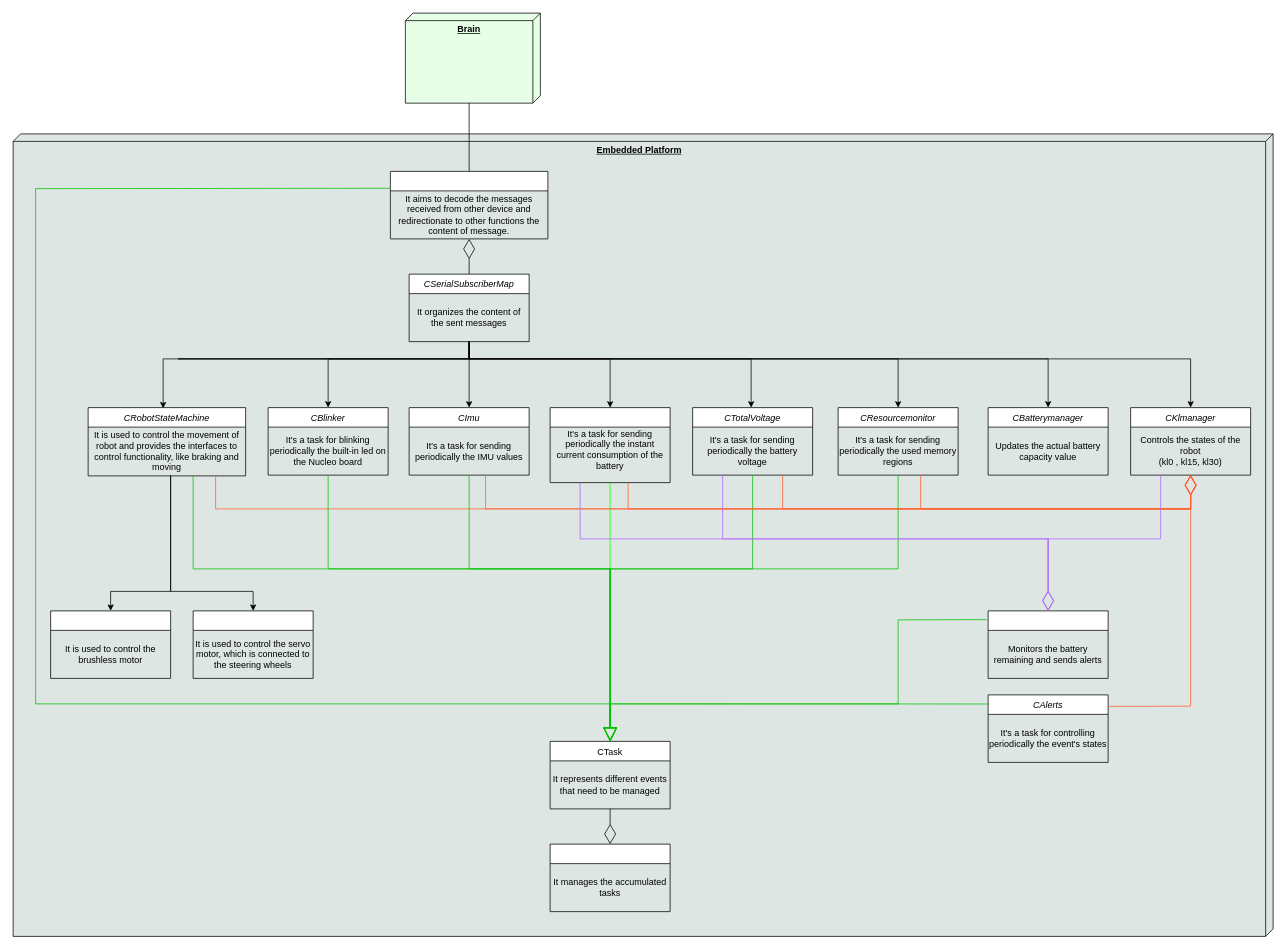
Image size: 1286x950. Some labels were removed from this diagram. Here are the shapes that lost their labels. From the top down, the box of each, then its label:
(390, 171, 548, 239): CSerialMonitor
(549, 407, 670, 483): CInstantConsumption
(50, 610, 171, 678): CSpeedingMotor
(192, 610, 313, 678): CSteeringMotor
(987, 610, 1108, 678): CPowermanager
(549, 843, 670, 912): CTaskManager
